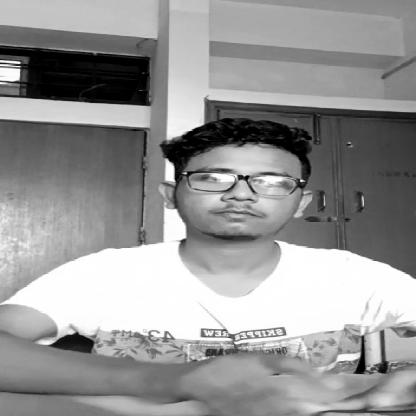Normal: (185, 142, 303, 244)
